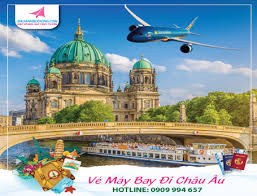maybay_dansu: (120, 7, 231, 54)
